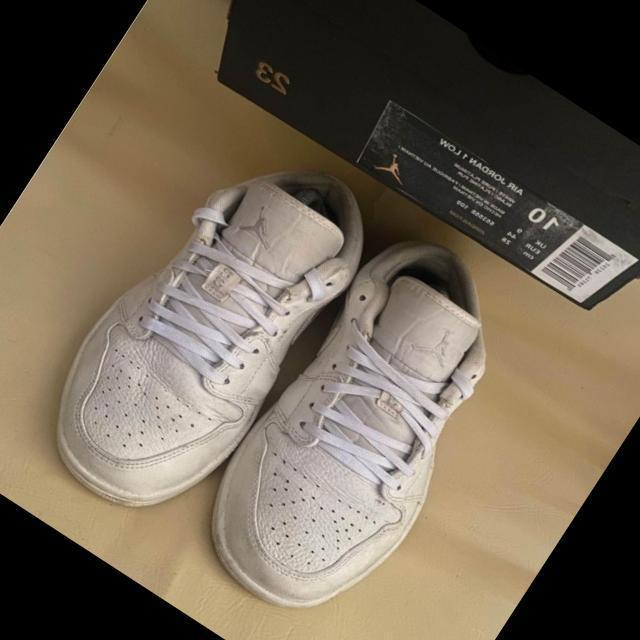nike fake air force: (11, 106, 399, 553), (175, 212, 548, 640)
